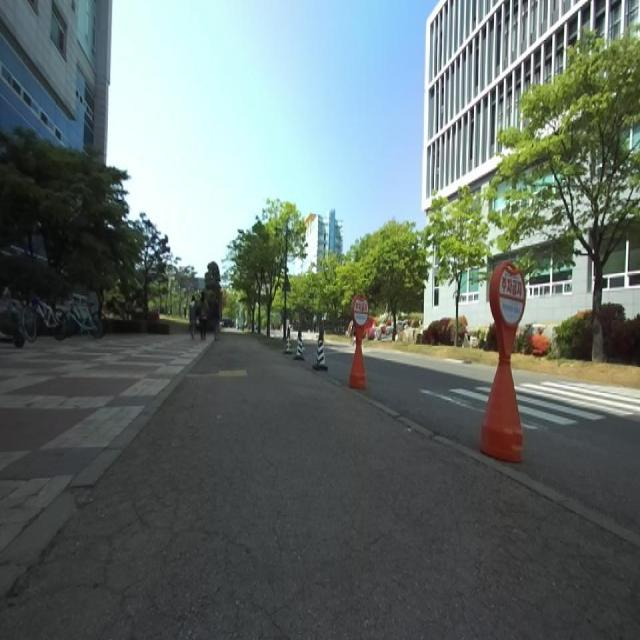sidewalk: (0, 332, 640, 639)
